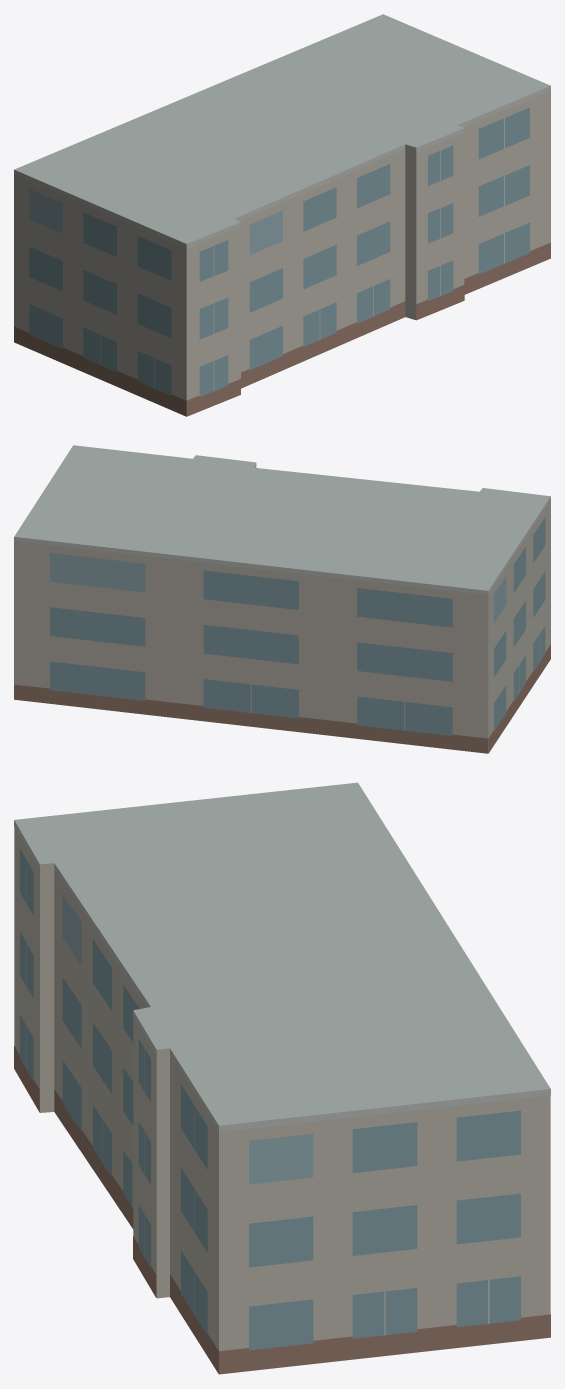
The model's file is survey-upis-32649306.glb.
The picture shows the model from 3 angles, top to bottom: view 1: azimuth 30°, elevation 25°; view 2: azimuth 150°, elevation 25°; view 3: azimuth 270°, elevation 25°; orthographic projection. The views are drawn at different scales.
Visible parts, largest first — view 1: survey-upis-32649306.tmp; view 2: survey-upis-32649306.tmp; view 3: survey-upis-32649306.tmp.
Boxes of the visible parts, left/top/right/bottom form: survey-upis-32649306.tmp: left=14, top=14, right=550, bottom=416; survey-upis-32649306.tmp: left=14, top=445, right=550, bottom=753; survey-upis-32649306.tmp: left=14, top=782, right=550, bottom=1374.
Size of the model in its own units: 27.09 by 9.15 by 17.91.
